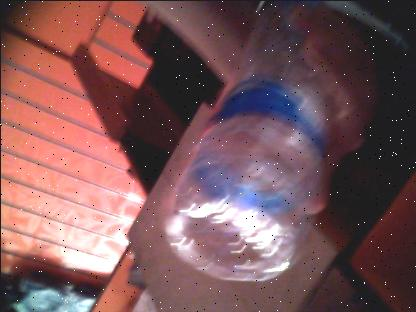Plastic Bottle: (165, 0, 385, 280)
